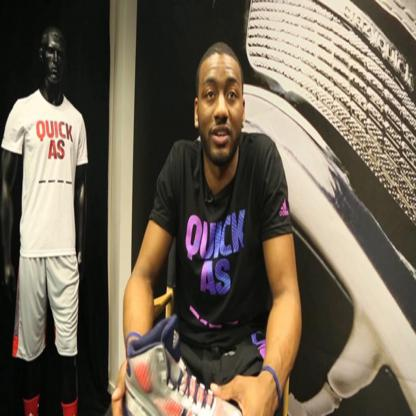face: (200, 55, 244, 168), (44, 33, 65, 80)
